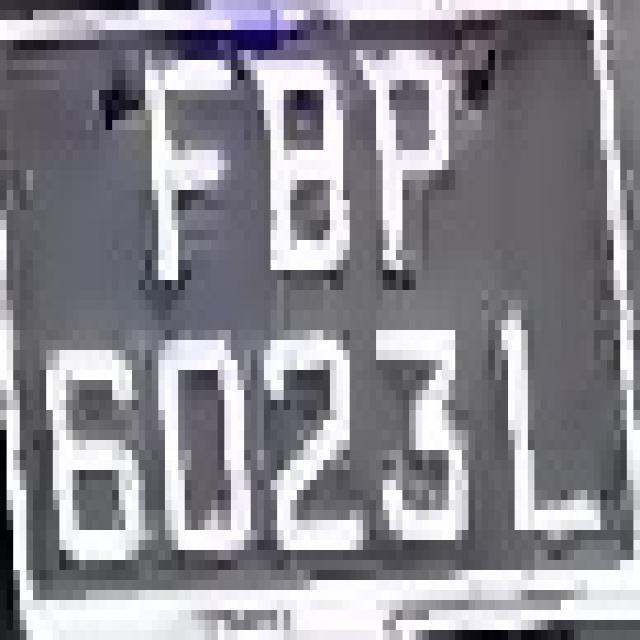0: (145, 320, 251, 600)
2: (250, 310, 382, 560)
3: (370, 310, 475, 560)
6: (33, 280, 152, 570)
B: (237, 50, 363, 320)
F: (112, 20, 251, 300)
L: (495, 290, 600, 580)
P: (356, 30, 468, 270)
